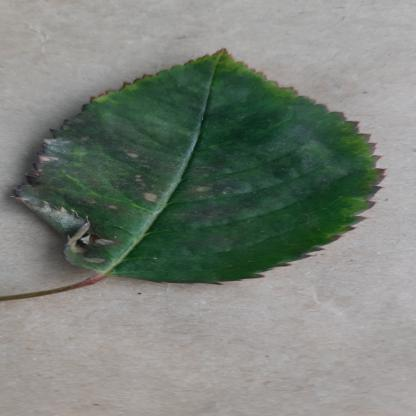powdery-mildew: (3, 45, 389, 285)
